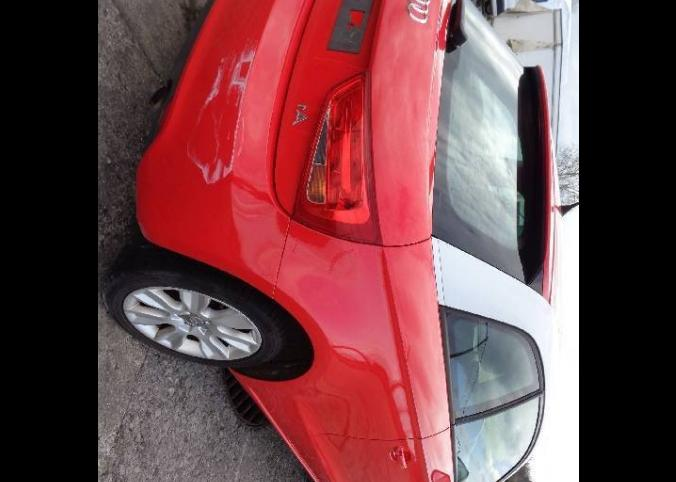Missing part: (329, 0, 372, 54)
Paint chip: (197, 39, 257, 179), (185, 139, 225, 185), (134, 212, 155, 243), (235, 116, 246, 158), (210, 113, 218, 159), (226, 129, 231, 140), (218, 115, 222, 124)
